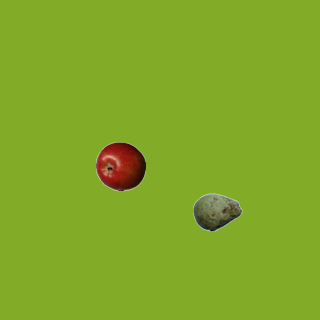Apple Braeburn: (95, 141, 145, 191)
Pear Stone: (192, 187, 242, 237)
